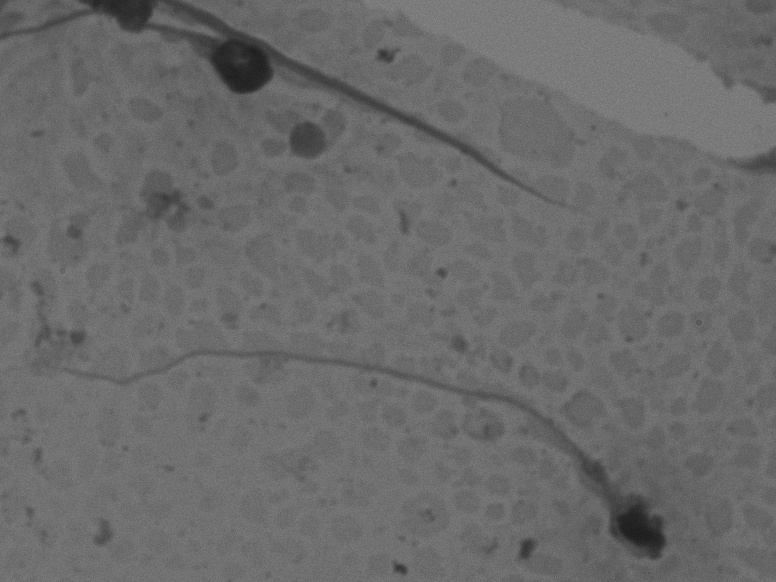Abnormal: (24, 274, 707, 579)
